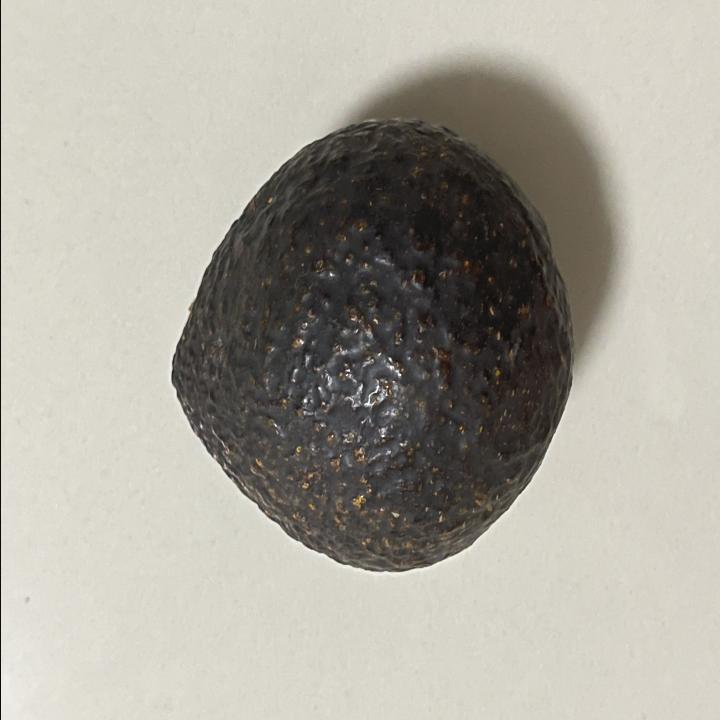Level2: (163, 112, 579, 578)
